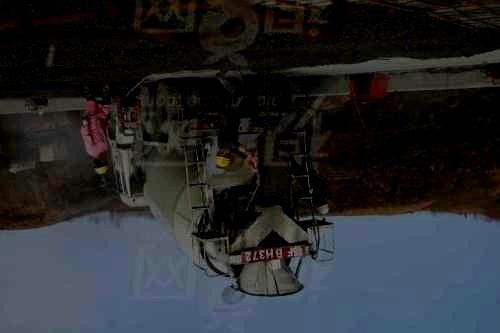helmet: (215, 148, 232, 168), (93, 157, 108, 175)
